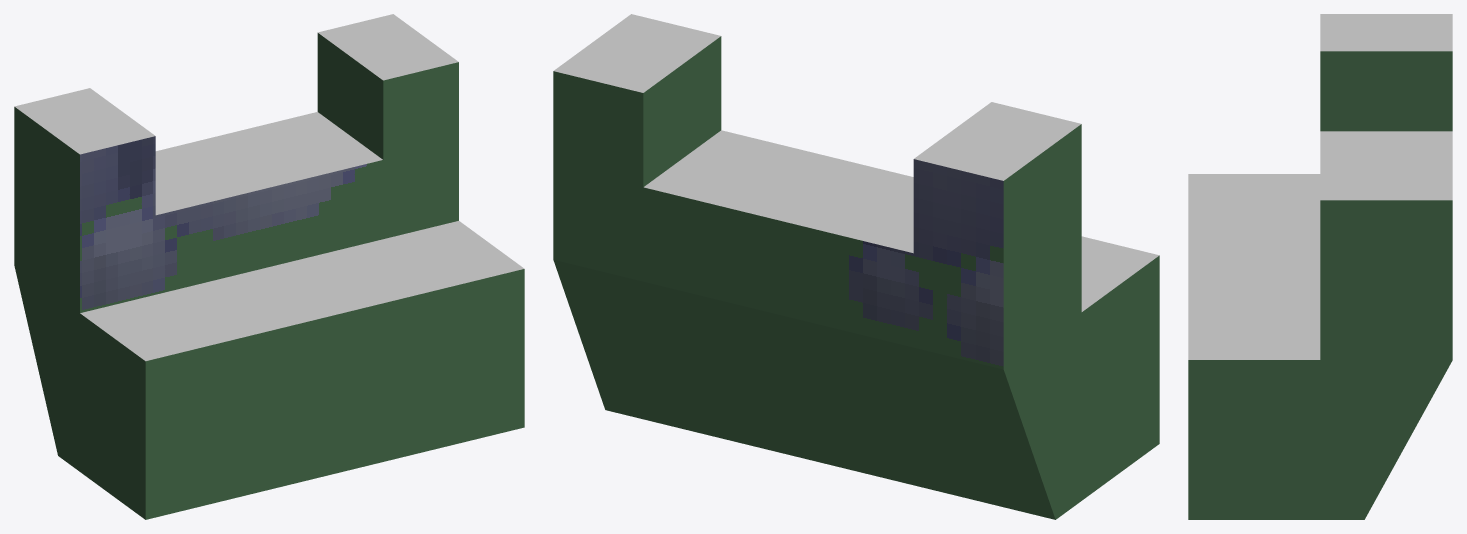
The model's file is battlement_half.dae.
3 views of the same model, side by side, from view 1: azimuth 30°, elevation 25°; view 2: azimuth 150°, elevation 25°; view 3: azimuth 270°, elevation 25° (orthographic). The views are drawn at different scales.
Visible parts, largest first — view 1: battlement_half; view 2: battlement_half; view 3: battlement_half.
Part boxes in pixels (<box>): battlement_half: <box>14,14,524,519</box>; battlement_half: <box>553,14,1159,519</box>; battlement_half: <box>1188,14,1452,519</box>.
Size of the model in its own units: 0.5 by 0.4 by 0.3.
